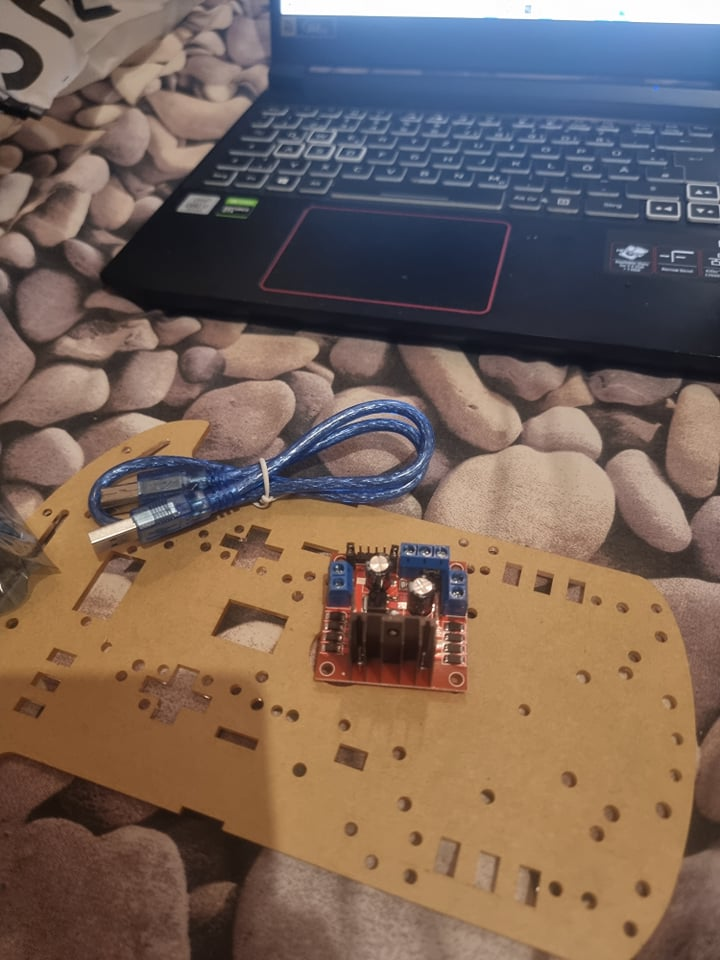MOTOR: (309, 543, 472, 695)
